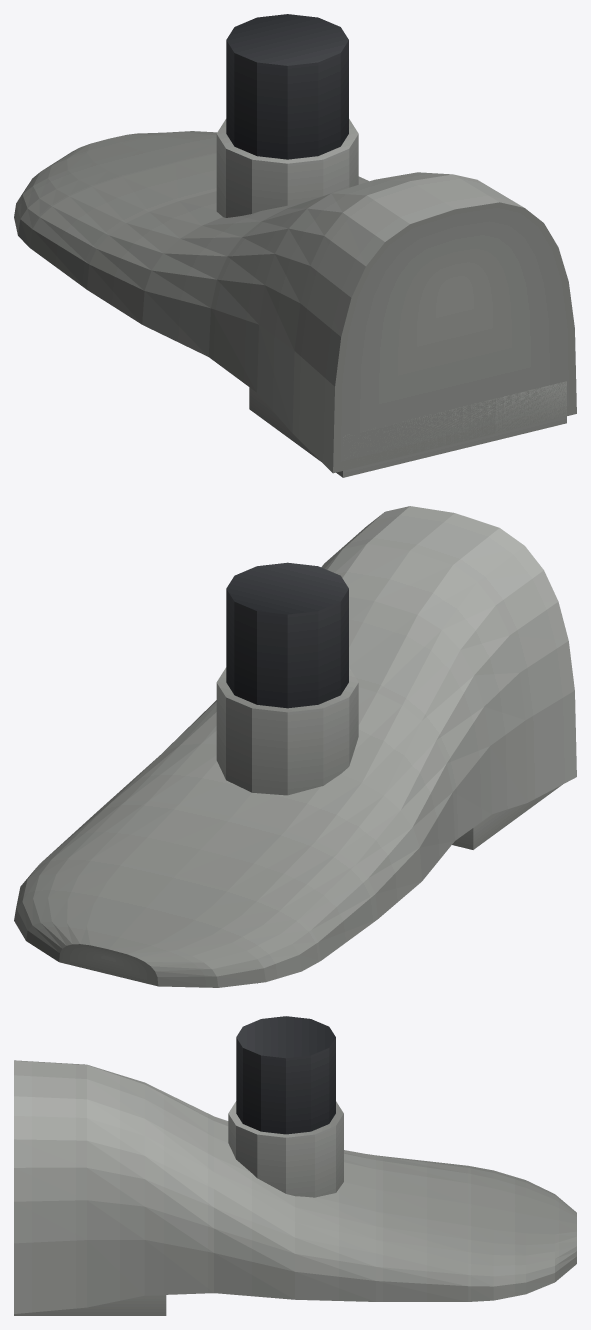
The model's file is streetlight_ltkc1.obj.
3 views of the same model, one above another, from view 1: azimuth 30°, elevation 25°; view 2: azimuth 150°, elevation 25°; view 3: azimuth 270°, elevation 25° (orthographic). The views are drawn at different scales.
Visible parts, largest first — view 1: fixture; view 2: fixture; view 3: fixture.
Part boxes in pixels (box(x1,y1,x2,y2)): fixture: box(14, 14, 576, 477); fixture: box(14, 506, 576, 987); fixture: box(14, 1016, 576, 1315).
Bounding box in the file's own units: 0.325 × 0.3075 × 0.6699.
